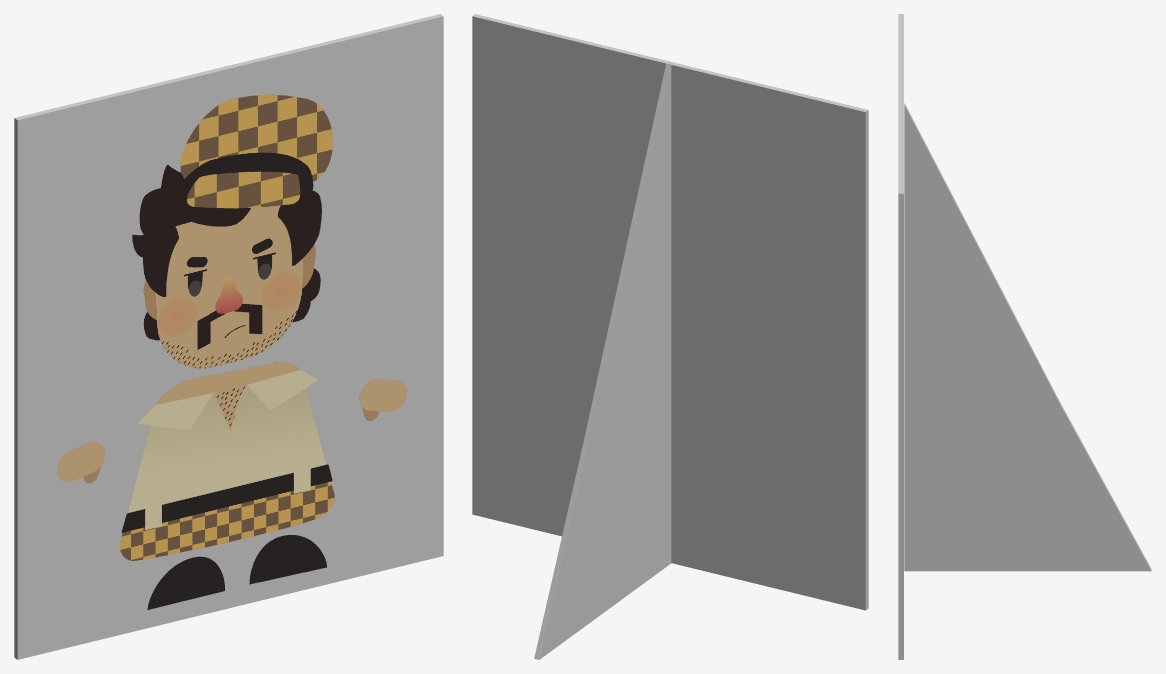
Rendered from Juge_02.fbx.
3 views of the same model, side by side, from view 1: azimuth 30°, elevation 25°; view 2: azimuth 150°, elevation 25°; view 3: azimuth 270°, elevation 25° (orthographic). The views are drawn at different scales.
Parts seen in each view (by area): view 1: Cube, Juge_01; view 2: Cube, Cube.002; view 3: Cube.002, Cube.
Part boxes in pixels (bbox=[...]): Cube: bbox=[14, 14, 443, 659]; Juge_01: bbox=[57, 94, 406, 609]; Cube: bbox=[472, 14, 868, 610]; Cube.002: bbox=[534, 63, 671, 659]; Cube.002: bbox=[904, 103, 1151, 571]; Cube: bbox=[898, 14, 903, 659].
Bounding box in the file's own units: 230 × 279 × 138.
2 materials, 1 textured.
